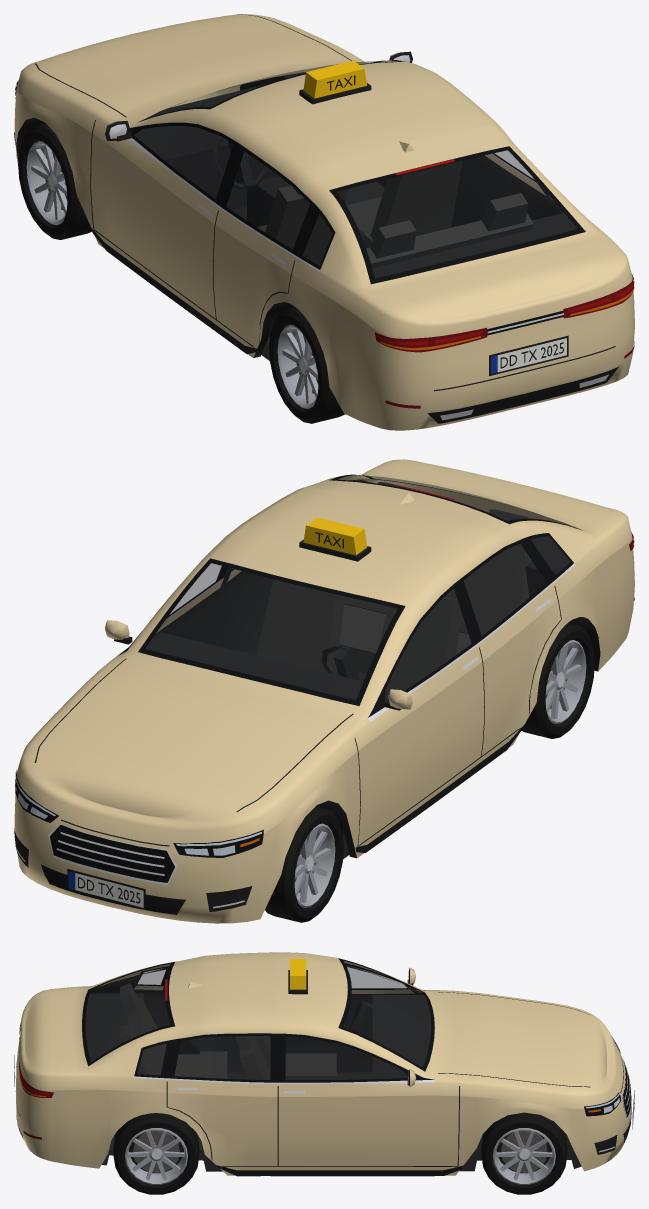
Rendered from taxi_limousine.glb.
3 renders of one model, top to bottom at view 1: azimuth 30°, elevation 25°; view 2: azimuth 150°, elevation 25°; view 3: azimuth 270°, elevation 25°, orthographic. The views are drawn at different scales.
Parts seen in each view (by area): view 1: Body, Glass, Interior, Lights, Tire_RL, Tire_FL, Rim_FL, Rim_RL; view 2: Body, Glass, Interior, Tire_FL, Tire_RL, Lights, Rim_FL, Rim_RL; view 3: Body, Glass, Interior, Tire_FR, Tire_RR, Rim_FR, Rim_RR, Lights.
Part boxes in pixels (bbox=[...]): Body: bbox=[14, 14, 634, 430]; Glass: bbox=[134, 60, 577, 277]; Interior: bbox=[134, 84, 577, 382]; Lights: bbox=[15, 60, 634, 408]; Tire_RL: bbox=[269, 307, 344, 423]; Tire_FL: bbox=[18, 123, 91, 239]; Rim_FL: bbox=[26, 141, 67, 225]; Rim_RL: bbox=[277, 324, 318, 408]; Body: bbox=[14, 459, 634, 923]; Glass: bbox=[145, 475, 569, 701]; Interior: bbox=[145, 480, 570, 701]; Tire_FL: bbox=[265, 806, 343, 922]; Tire_RL: bbox=[521, 623, 594, 738]; Lights: bbox=[15, 485, 634, 855]; Rim_FL: bbox=[294, 823, 335, 907]; Rim_RL: bbox=[545, 640, 586, 724]; Body: bbox=[14, 952, 634, 1176]; Glass: bbox=[86, 961, 430, 1079]; Interior: bbox=[85, 965, 431, 1150]; Tire_FR: bbox=[481, 1112, 567, 1194]; Tire_RR: bbox=[113, 1113, 199, 1194]; Rim_FR: bbox=[492, 1128, 555, 1184]; Rim_RR: bbox=[125, 1128, 187, 1184]; Lights: bbox=[19, 959, 619, 1139].
Size of the model in its own units: 2.1 by 1.6 by 5.
